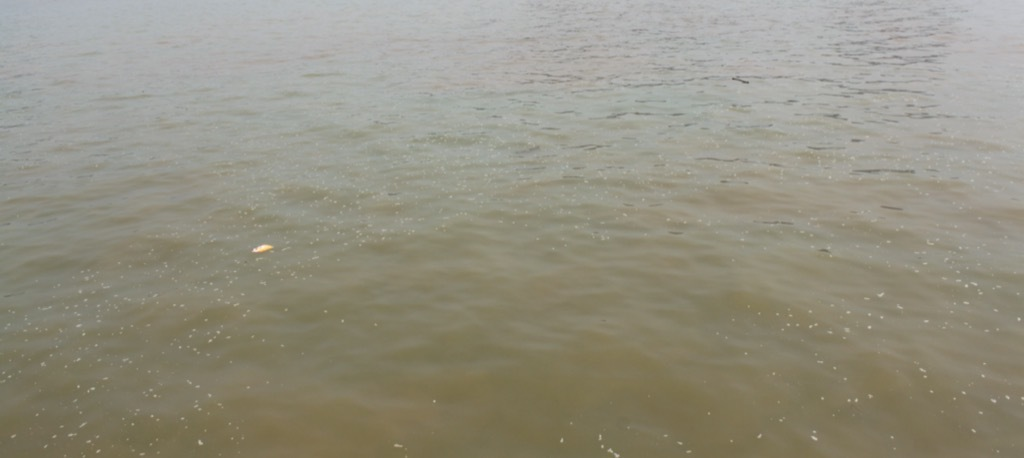organic: (722, 67, 766, 94)
plastic: (247, 240, 279, 260)
